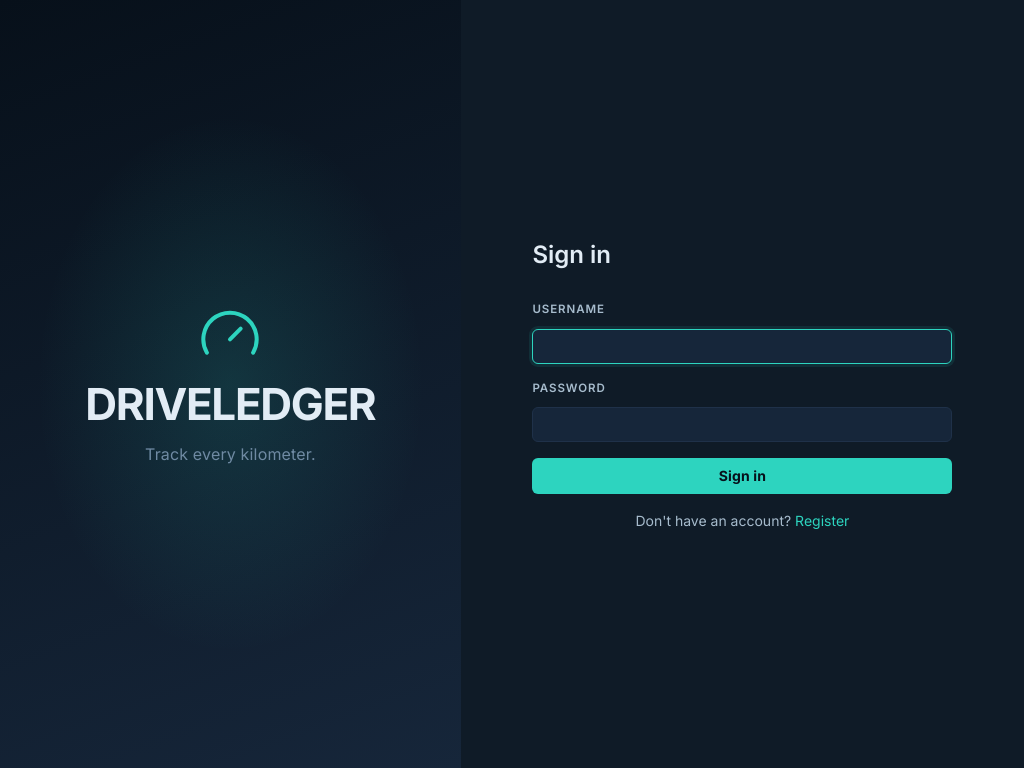
Scenario: LoginPage › should display error message when login API returns an error
Type "alice" into the field named "username".
click(742, 346); type("alice")  # box [532, 329, 952, 364]
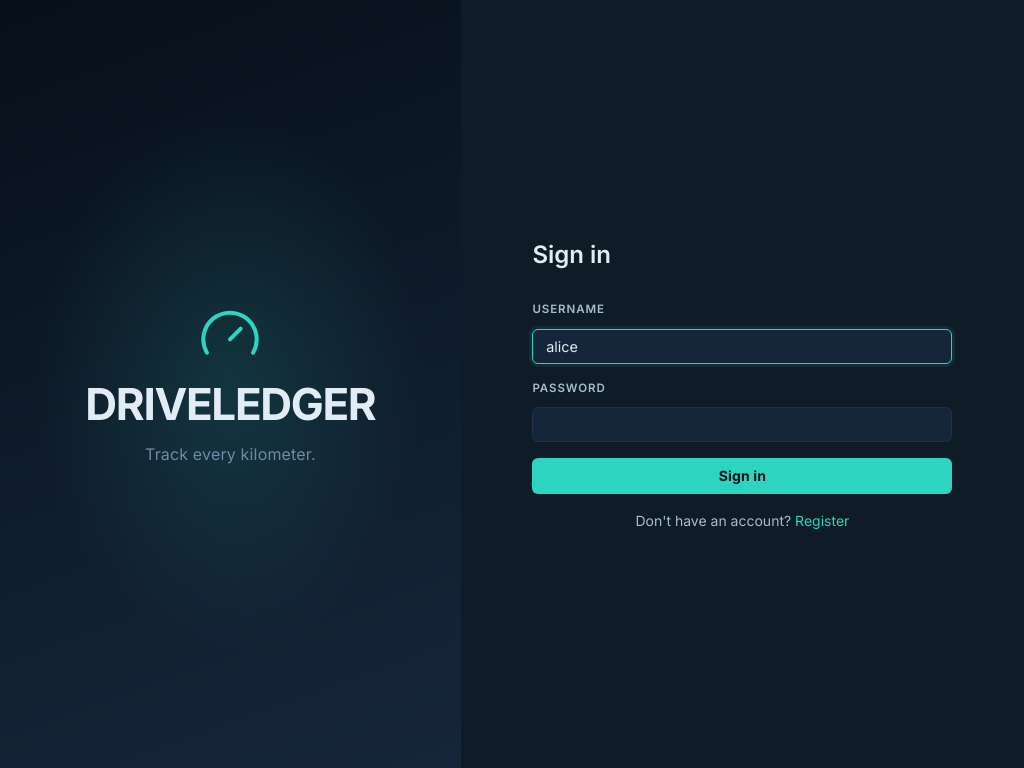
Type "wrong" into the password field named "password".
click(742, 425); type("wrong")  # box [532, 407, 952, 442]
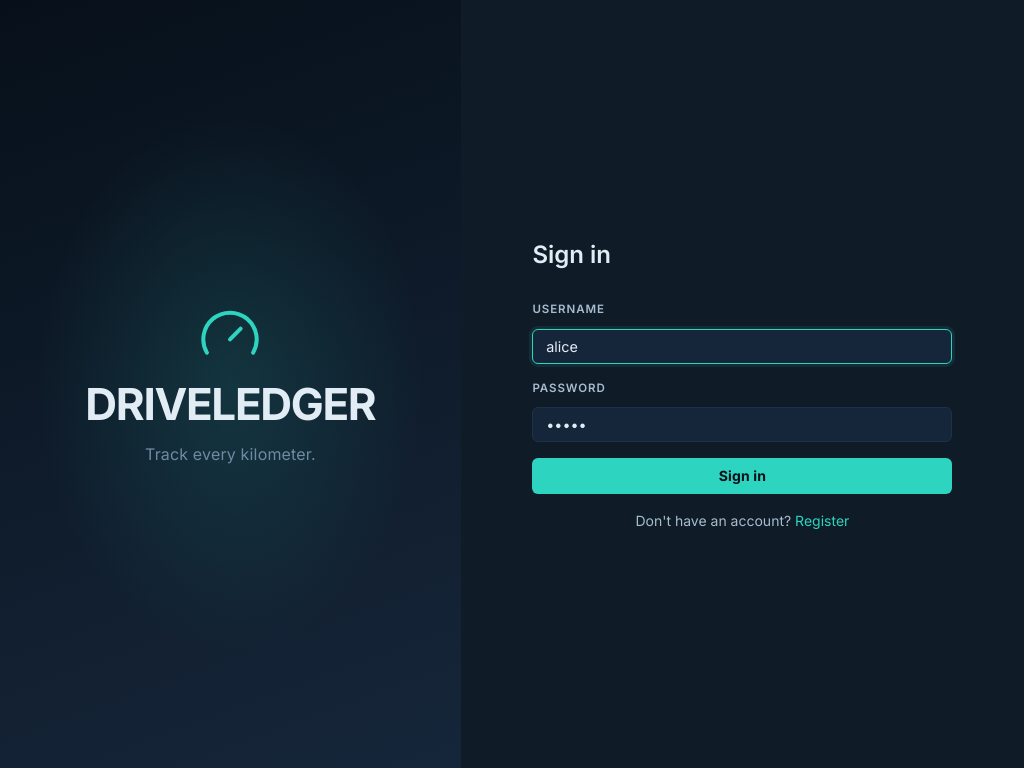
Submit the form, box [532, 301, 952, 494]
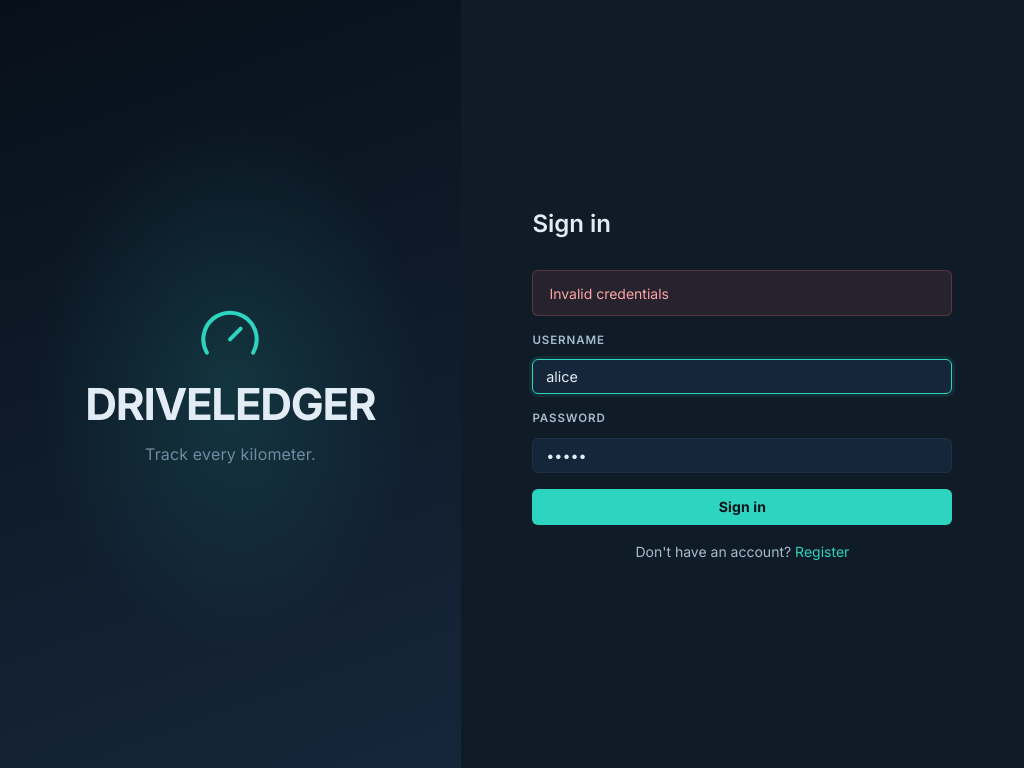
Now the text "Invalid credentials" is shown, box [532, 270, 952, 316]
